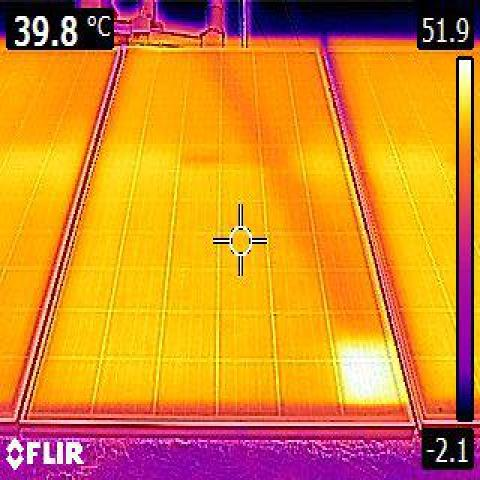fault: (340, 360, 397, 416)
